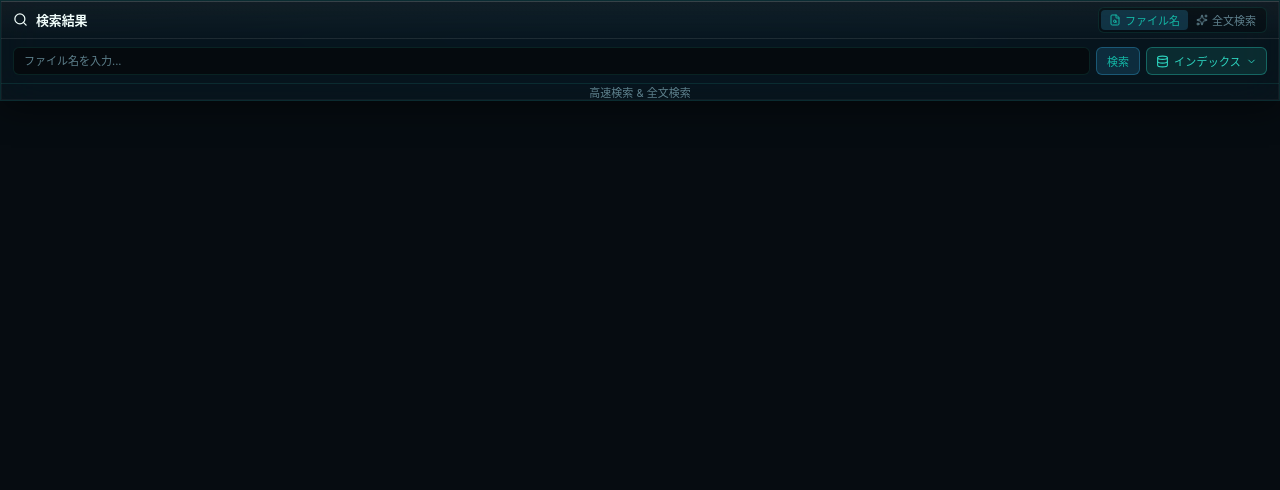
Test: Phase 13: Search, Indexing, and Text Extraction Evolution › Task 1-1: Index Repair Queue Integration › executes process_index_repair_queue when clicked and displays bilingual result banner
Open index dropdown
Step 1. Click the button "インデックス" → (1206, 61), box [1146,47,1267,75]
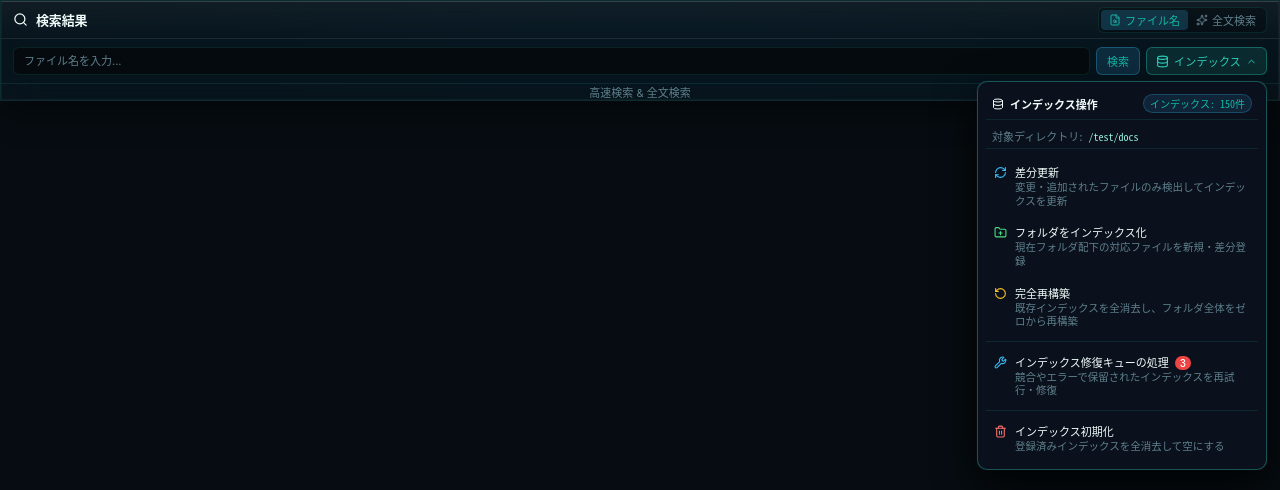
Click repair queue button
Step 2. Click the text "インデックス修復キューの処理" → (1103, 363), box [1015,356,1191,370]
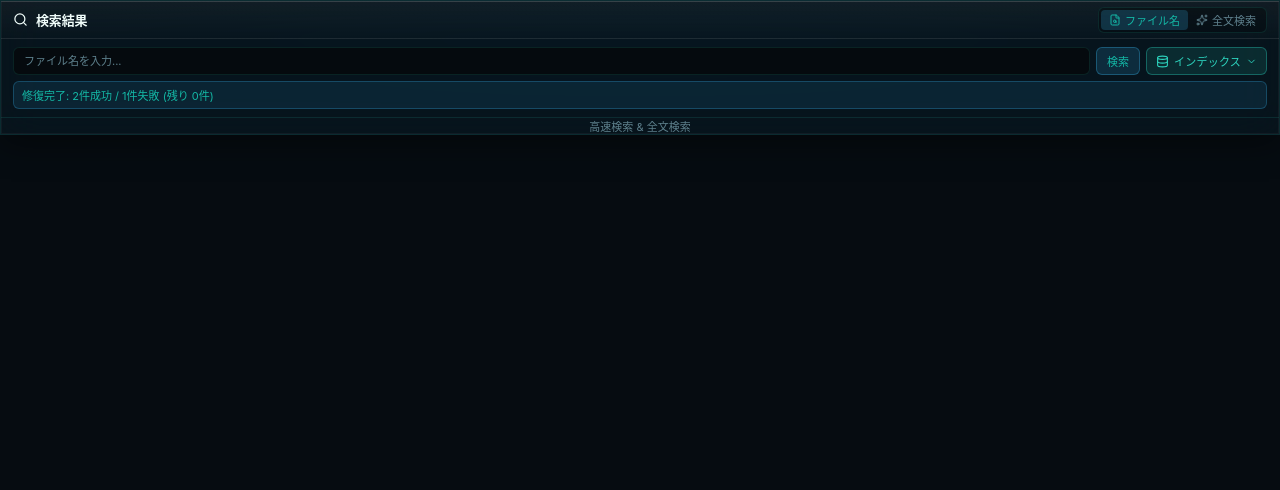
Expected: the text "修復完了: 2件成功 / 1件失敗 (残り 0件)" is shown, [22,87,214,103]
